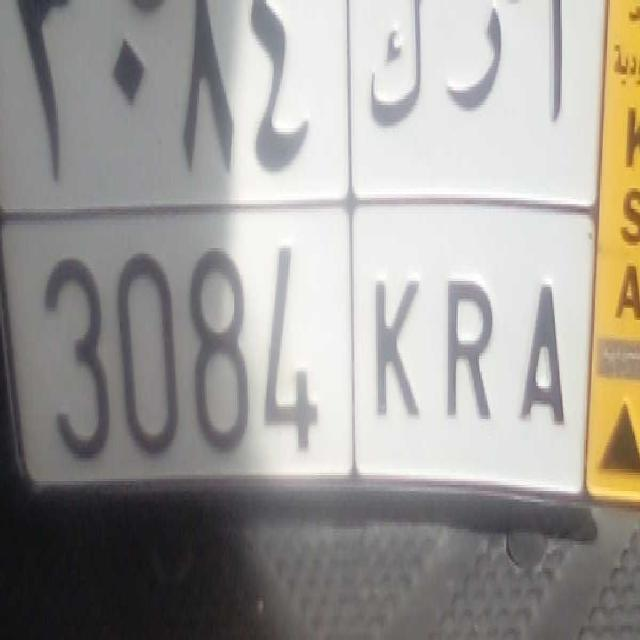license_plate: (19, 201, 576, 503)
